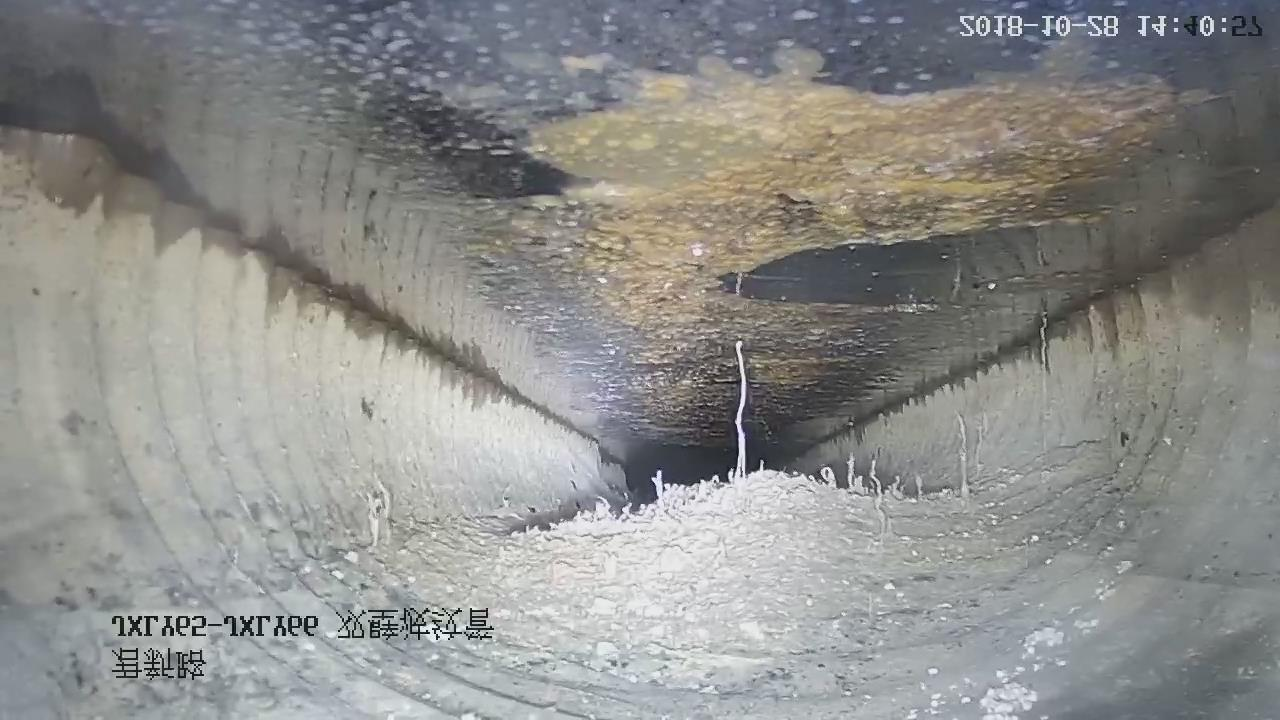FZ: (196, 1, 1227, 465)
JG: (0, 130, 1279, 720)
